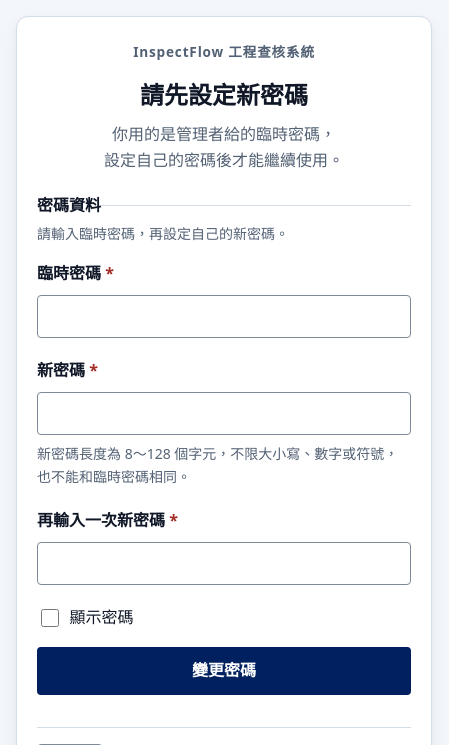
變更密碼頁：外部帳號與未知錯誤（補充，非 AUT-AC42 條列範圍） › 未知錯誤碼顯示通用訊息
The width and height of the screenshot is (449, 745).
Check: the heading "請先設定新密碼" is shown, box [140,78,308,111]
Check: the text "你用的是管理者給的臨時密碼，設定自己的密碼後才能繼續使用。" is shown, box [104,123,344,170]
In the password field labelled "臨時密碼": (224, 316) [37,295,411,338], type "current-pw"
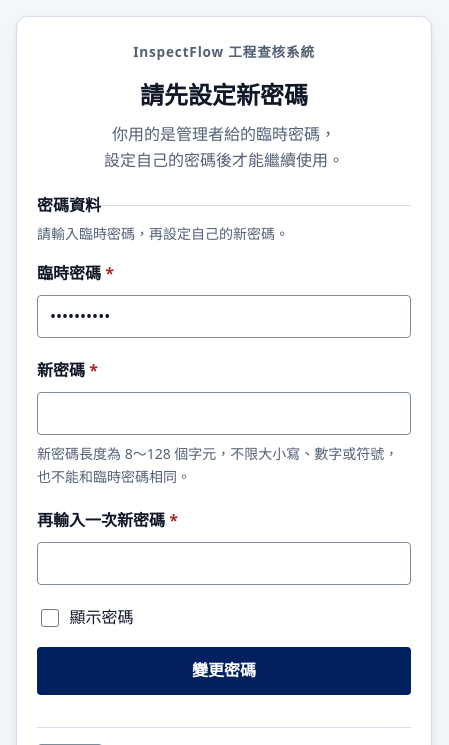
In the password field labelled "新密碼": (224, 414) [37,392,411,436], type "new-password"
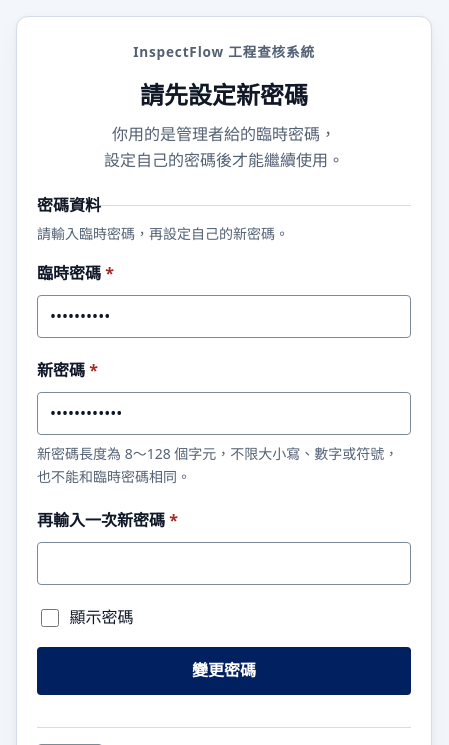
In the password field labelled "再輸入一次新密碼": (224, 564) [37,542,411,586], type "new-password"
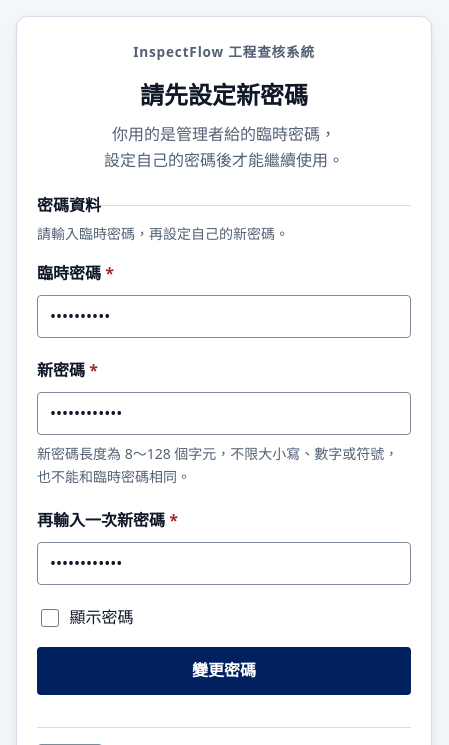
Click the button "變更密碼": (224, 671) [37,647,411,695]
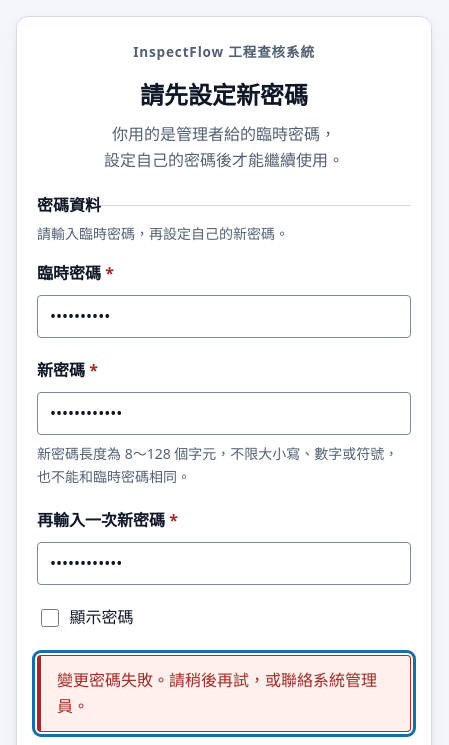
Check: the message reads "變更密碼失敗。請稍後再試，或聯絡系統管理員。", box [57,669,377,717]
